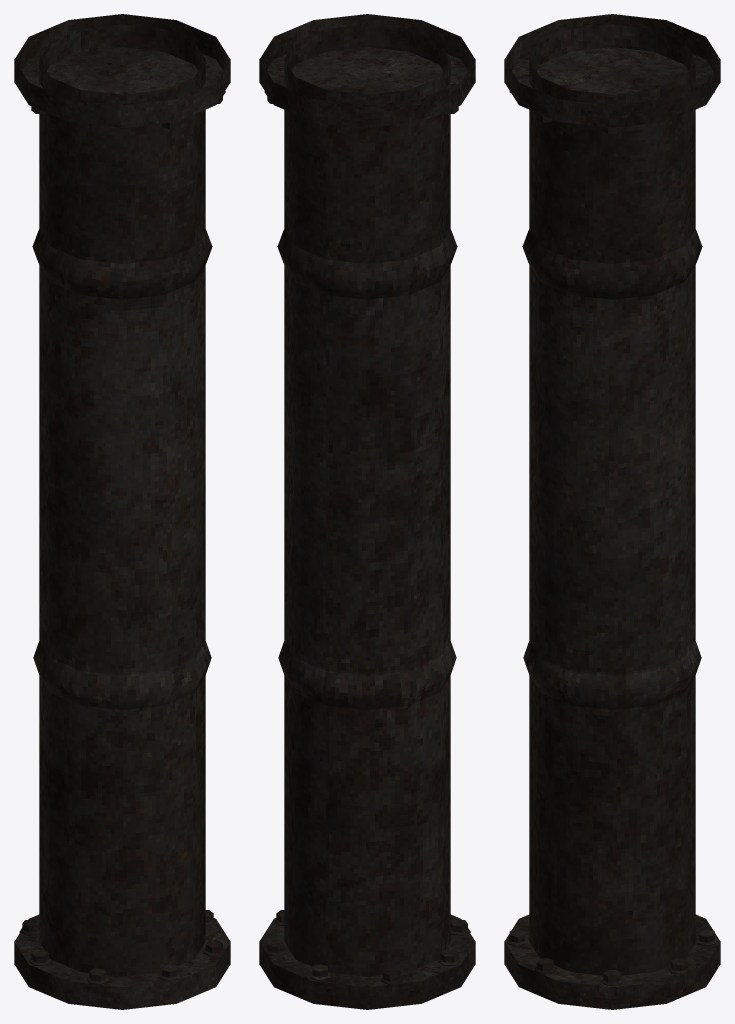
Rendered from pipe_1_short.glb.
3 renders of one model, left to right at view 1: azimuth 30°, elevation 25°; view 2: azimuth 150°, elevation 25°; view 3: azimuth 270°, elevation 25°, orthographic.
Parts seen in each view (by area): view 1: pipe_1_short; view 2: pipe_1_short; view 3: pipe_1_short.
Boxes of the visible parts, box(x1,y1,x2,y2) form: pipe_1_short: box(14, 14, 230, 1009); pipe_1_short: box(259, 14, 475, 1009); pipe_1_short: box(504, 14, 720, 1009).
Bounding box in the file's own units: 0.26 × 1.2 × 0.26.
1 material, 1 textured.
